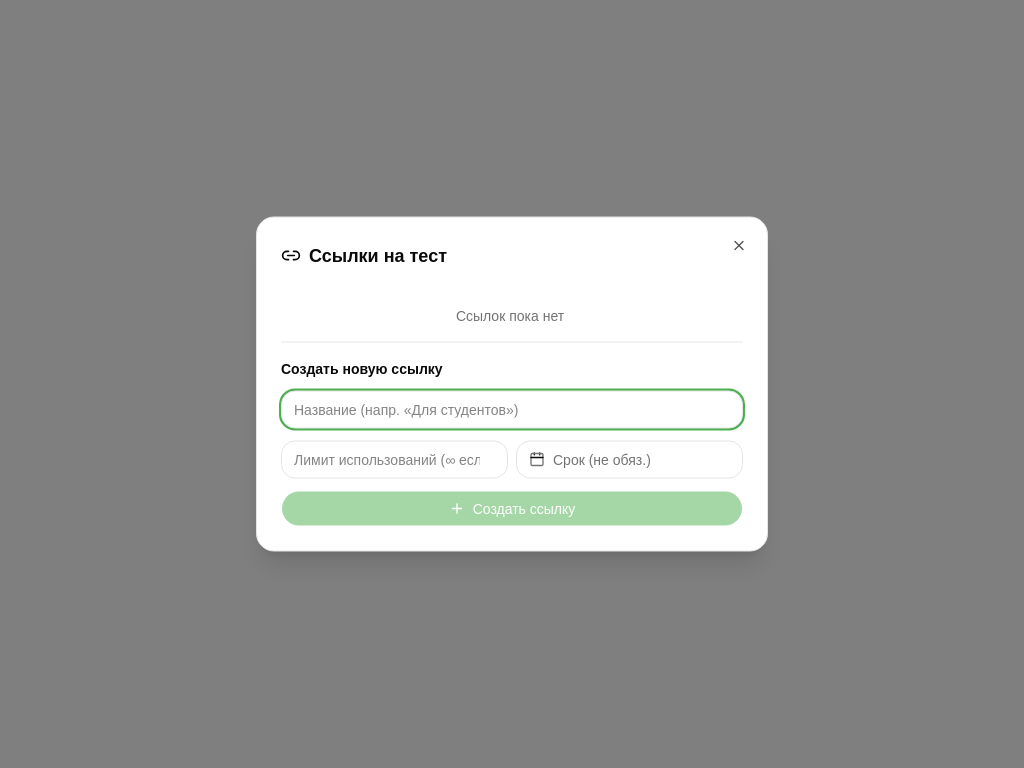
CreateLinkModal › create link › appends the new link to the list after creation
Check: the text "Ссылок пока нет" is shown, box left=456, top=308, right=564, bottom=324
In the field with placeholder "Название (напр. «Для студентов»)": (512, 410) left=281, top=390, right=743, bottom=428, type "Для студентов"
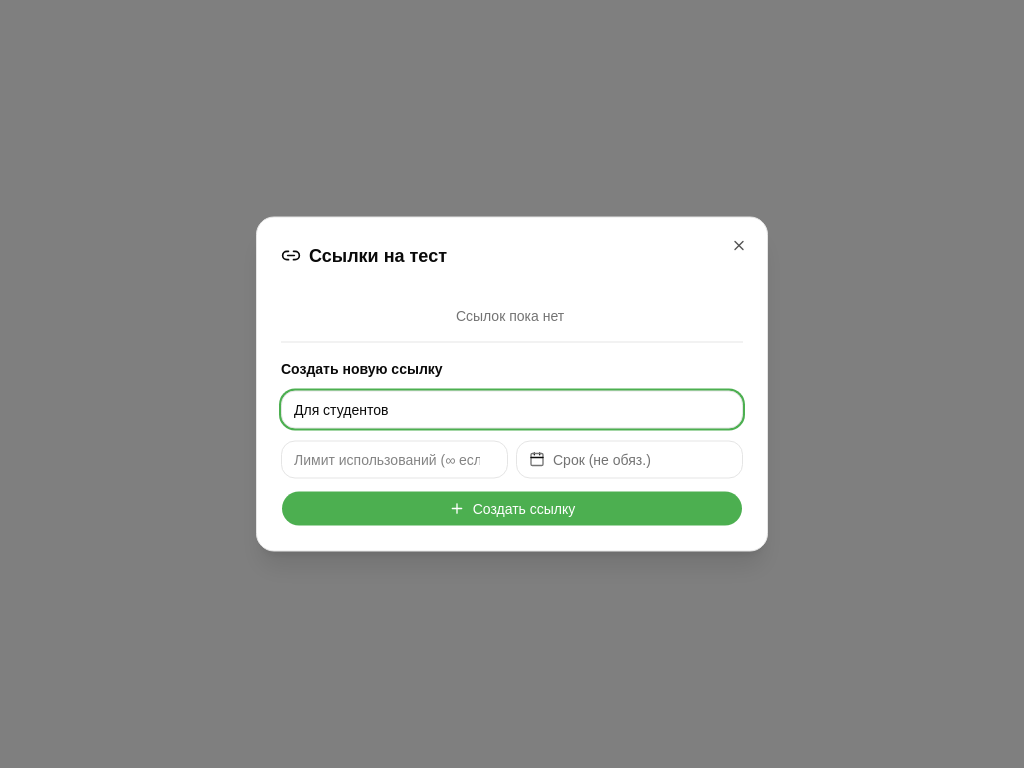
Click the button "Создать ссылку": (512, 508) left=281, top=490, right=743, bottom=526
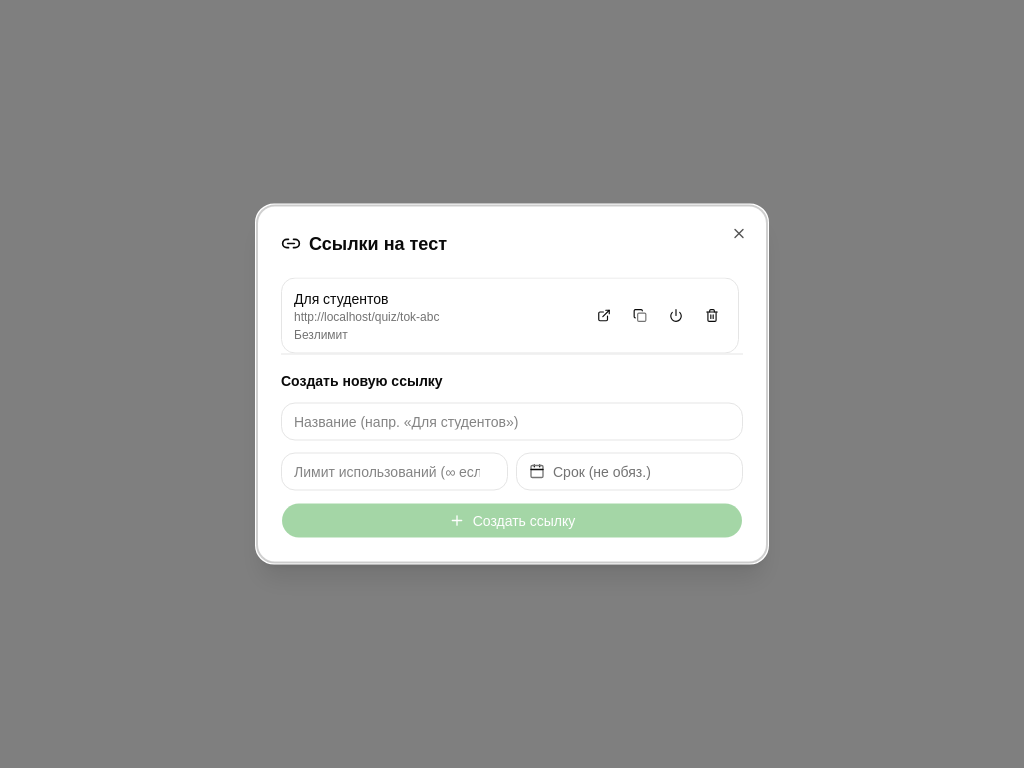
Check: the text "Для студентов" is shown, box left=294, top=290, right=388, bottom=306
